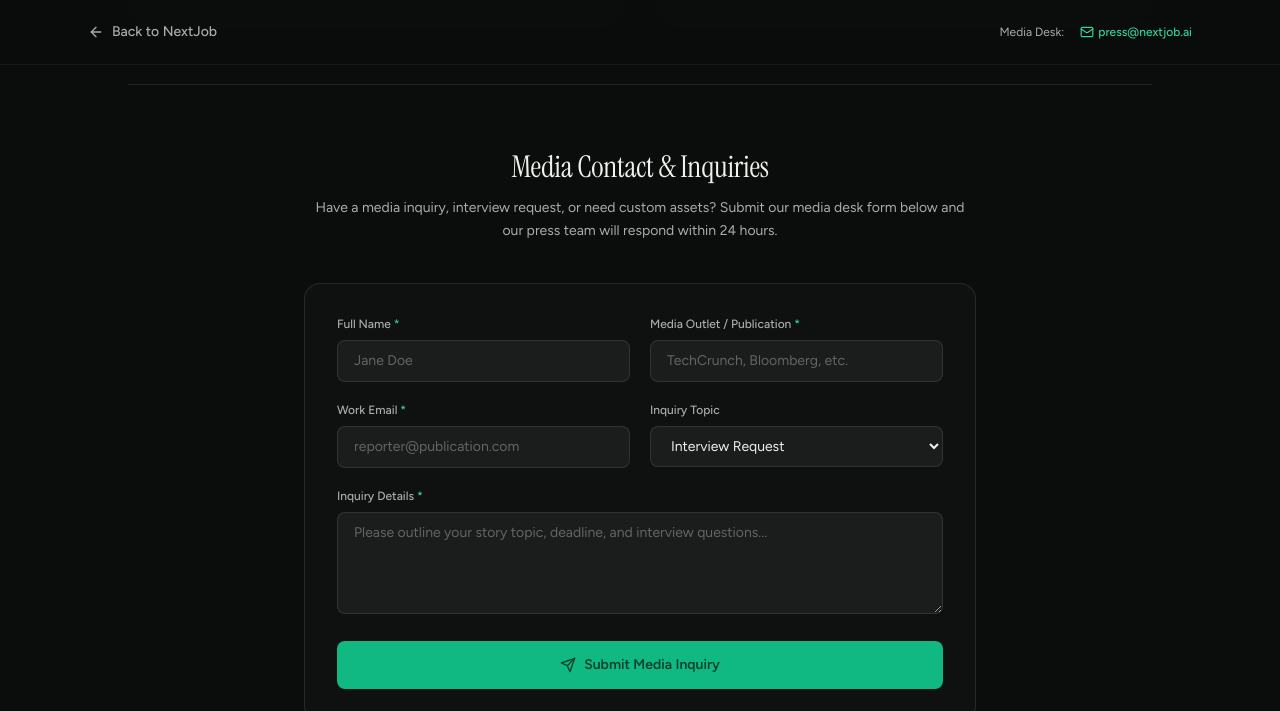
PressKitPage (T-104, FR-GROW-07) › successfully submits media inquiry with valid inputs
(page scrolled)
Type "Alex Morgan" into the field labelled "Full Name *" at [484, 360], box [337,340,630,382]
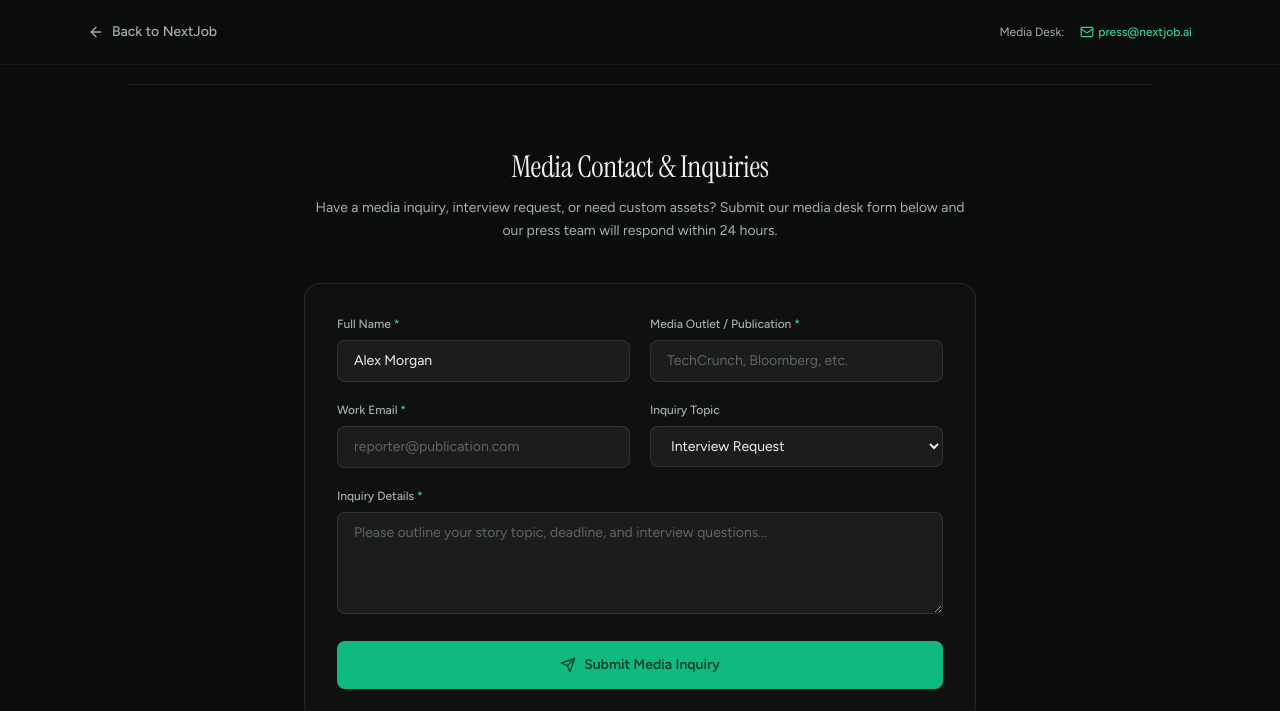
Type "The Tech Journal" into the field labelled "Media Outlet / Publication *" at [796, 360], box [650,340,943,382]
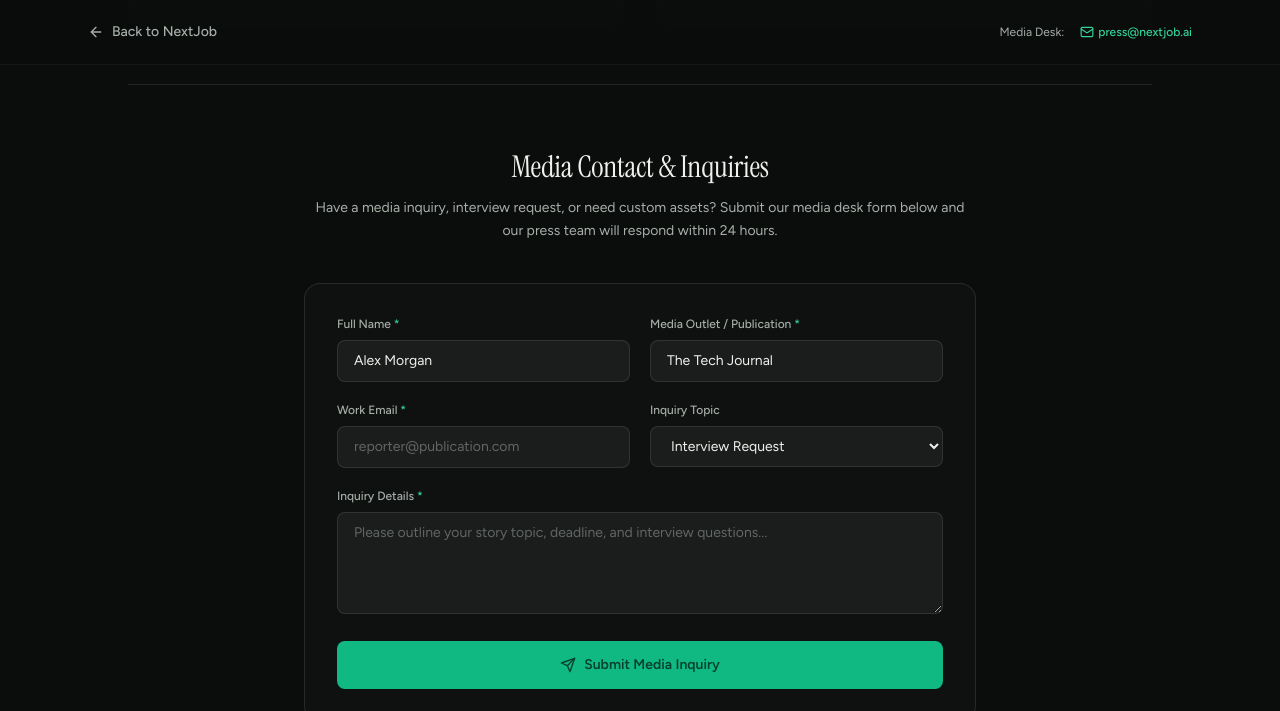
Type "alex@techjournal.com" into the field labelled "Work Email *" at [484, 446], box [337,426,630,468]
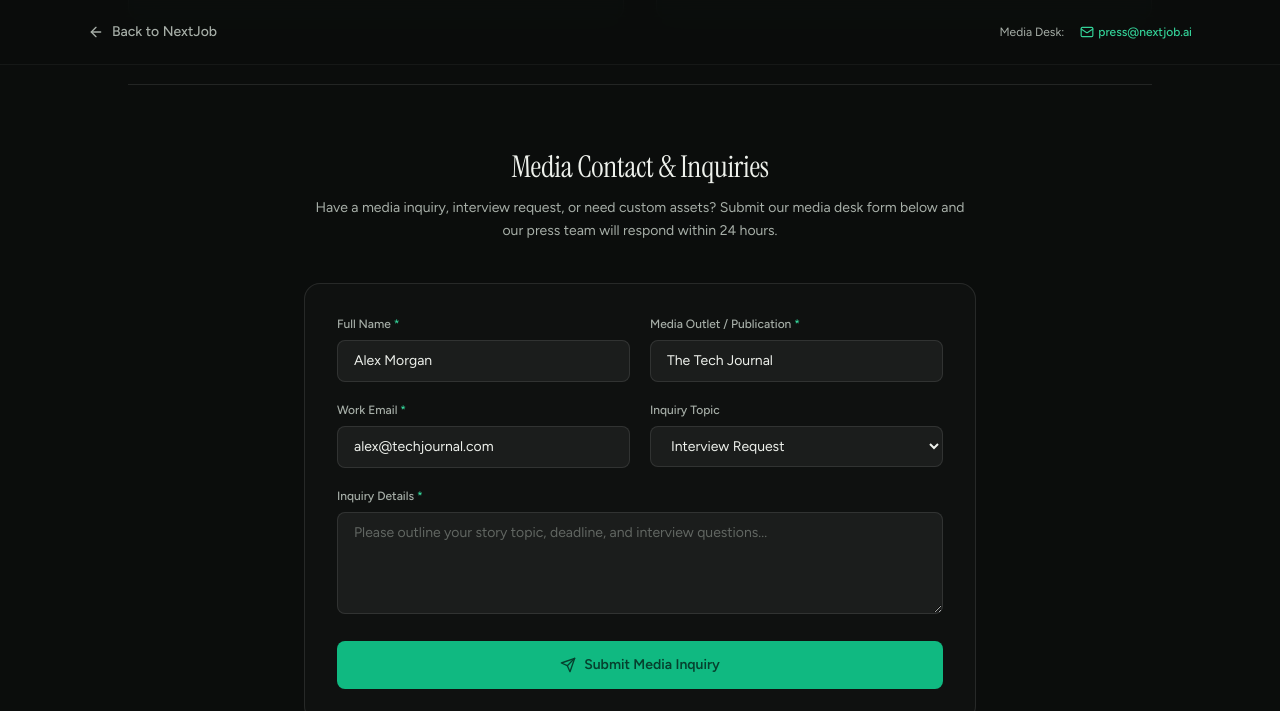
Replace the text in the text box labelled "Inquiry Details *" with "We would like to request an interview regarding evidence provenance." at [640, 562], box [337,512,943,614]
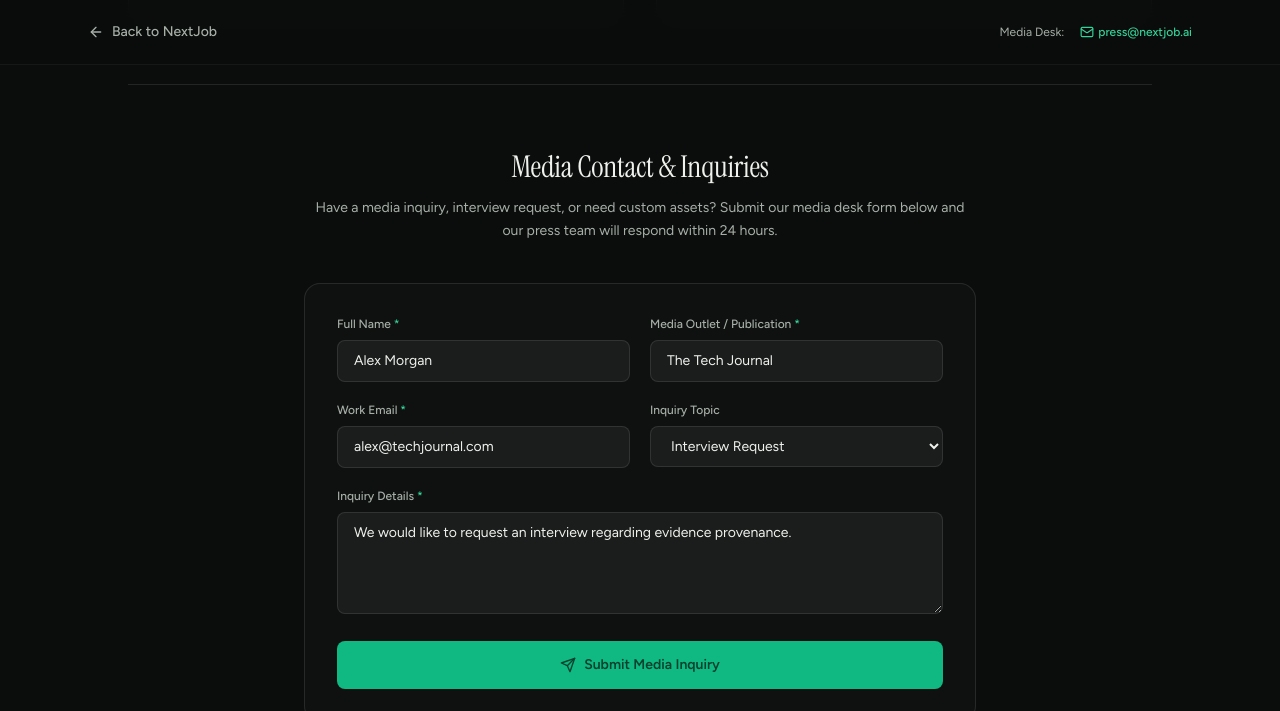
Click the button "Submit Media Inquiry" at [640, 664], box [337,640,943,688]
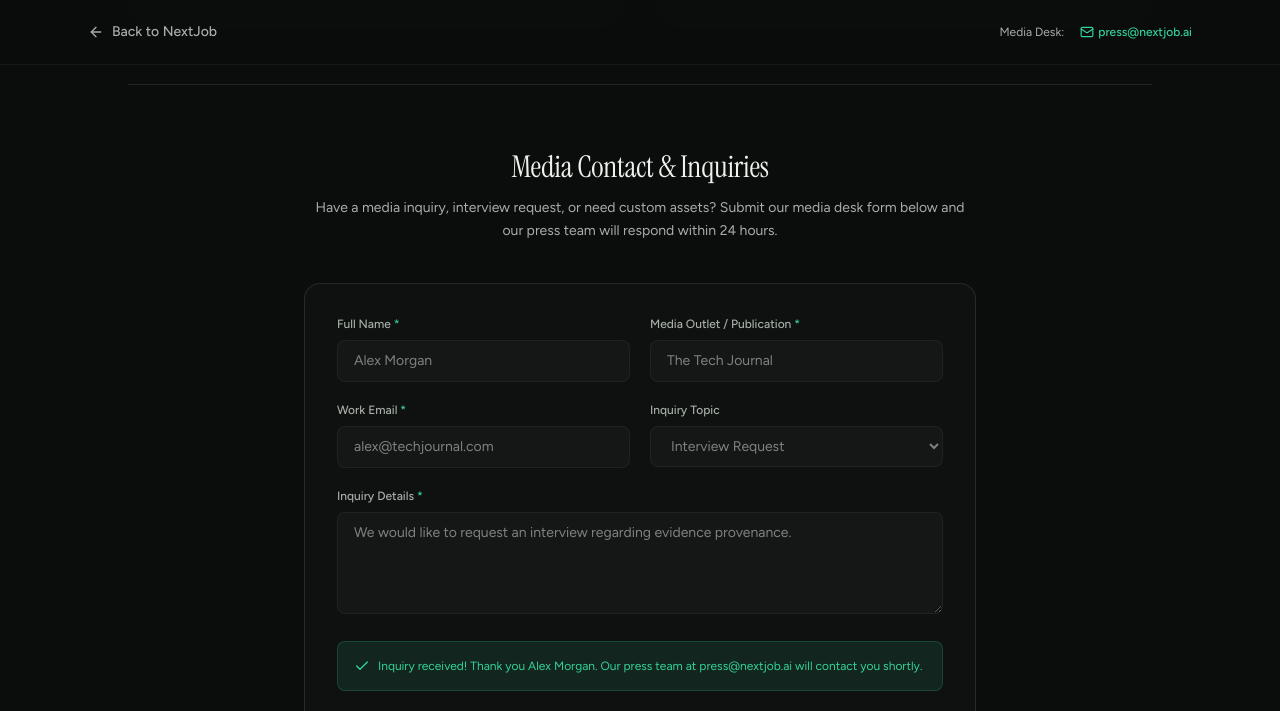
Expected: the message shows "Inquiry received! Thank you Alex Morgan.", [337,640,943,690]
